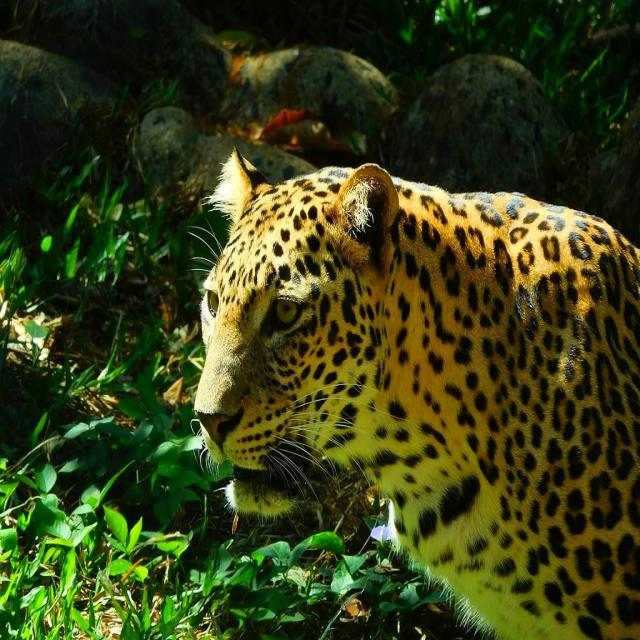leopard: (194, 150, 640, 639)
